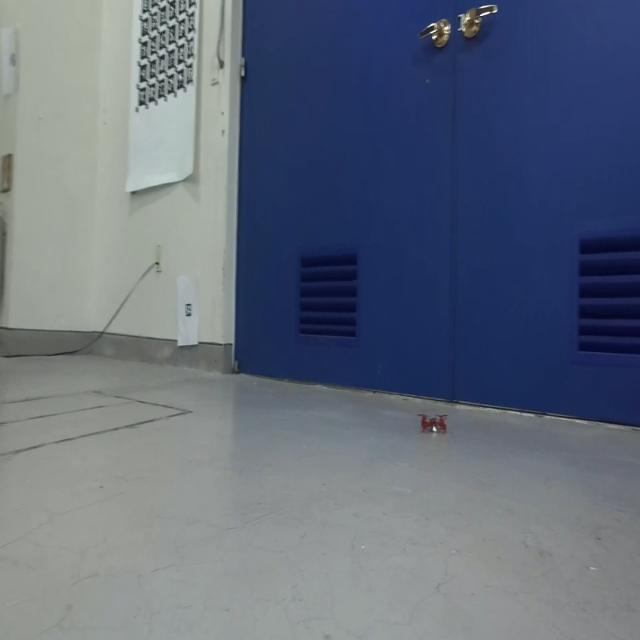crazyflie: (414, 408, 451, 442)
